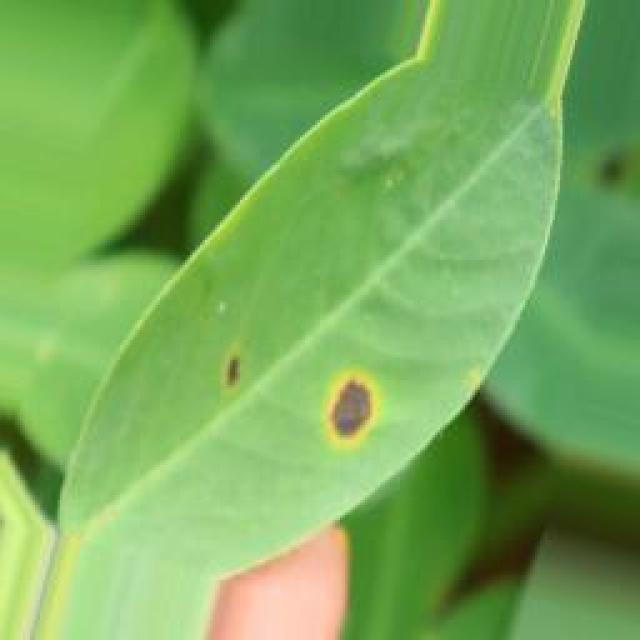Early_leaf_spot: (296, 350, 394, 471), (188, 332, 270, 426)
